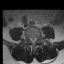CCS_normal: (32, 36, 34, 45)
LFS_normal: (36, 35, 38, 42)
LLS_normal: (34, 36, 36, 44)
RFS_normal: (28, 35, 30, 43)
RLS_normal: (30, 36, 32, 44)
